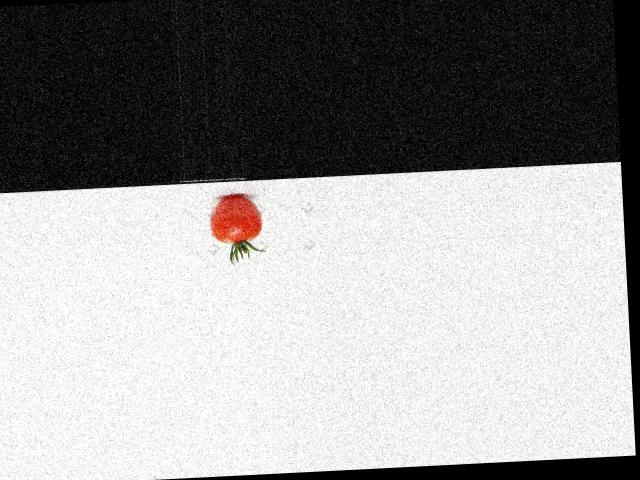tomato: (210, 194, 264, 243)
